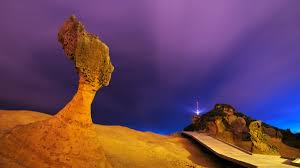yehliu: (54, 14, 122, 89)
